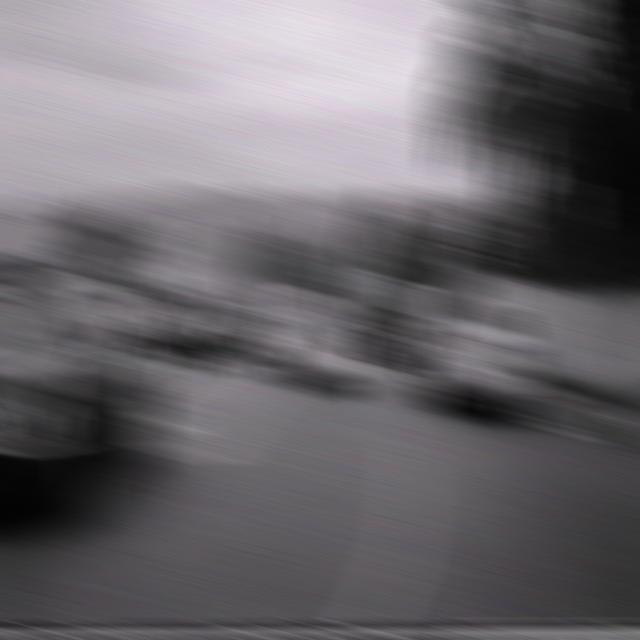speedLimit35: (458, 204, 502, 264)
